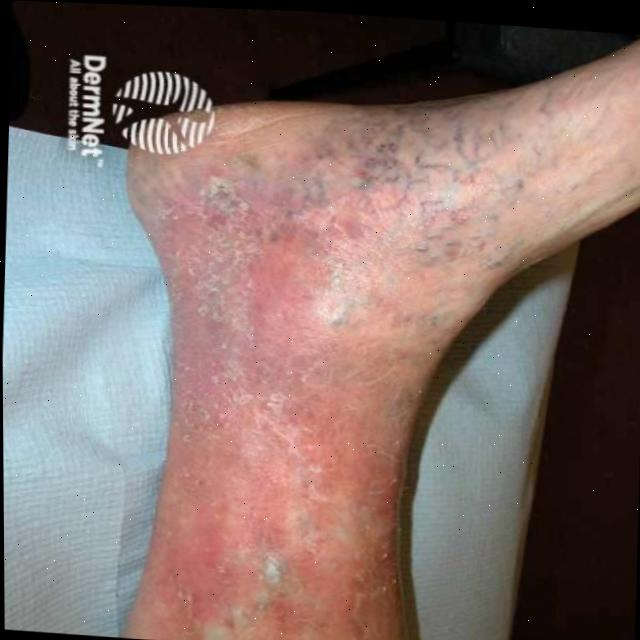Eczema: (161, 116, 497, 640)
